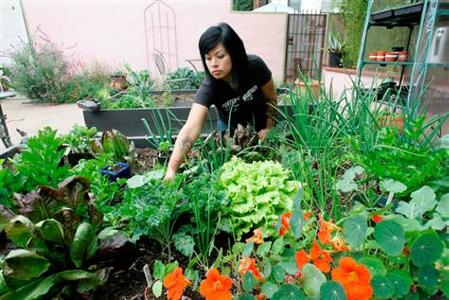person: (162, 23, 278, 186)
